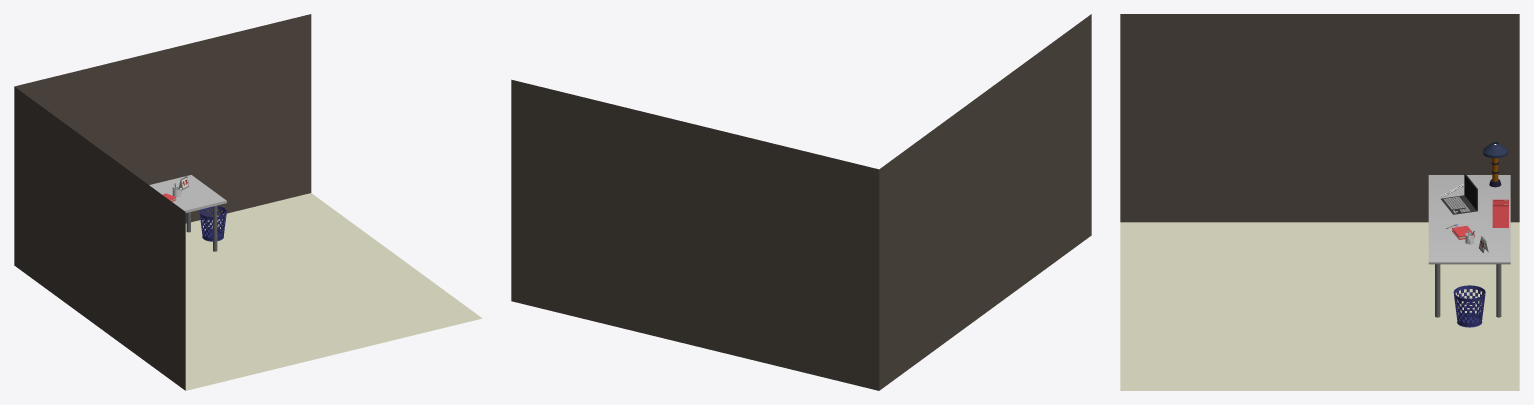
The model's file is Scene_desk.fbx.
3 views of the same model, side by side, from view 1: azimuth 30°, elevation 25°; view 2: azimuth 150°, elevation 25°; view 3: azimuth 270°, elevation 25° (orthographic). The views are drawn at different scales.
Parts seen in each view (by area): view 1: Plan, Desk, Bin; view 2: Plan; view 3: Plan, Desk, Bin, Cube.002, Cylindre, Book.004.
Part boxes in pixels (x1=…): Plan: x1=14, y1=14, x2=482, y2=390; Desk: x1=149, y1=175, x2=226, y2=251; Bin: x1=199, y1=206, x2=226, y2=241; Plan: x1=511, y1=14, x2=1091, y2=390; Plan: x1=1120, y1=14, x2=1519, y2=390; Desk: x1=1428, y1=175, x2=1510, y2=317; Bin: x1=1453, y1=285, x2=1485, y2=327; Cube.002: x1=1441, y1=173, x2=1477, y2=214; Cylindre: x1=1482, y1=142, x2=1507, y2=187; Book.004: x1=1492, y1=206, x2=1508, y2=227.
Size of the model in its own units: 3473 by 2044 by 3473.
